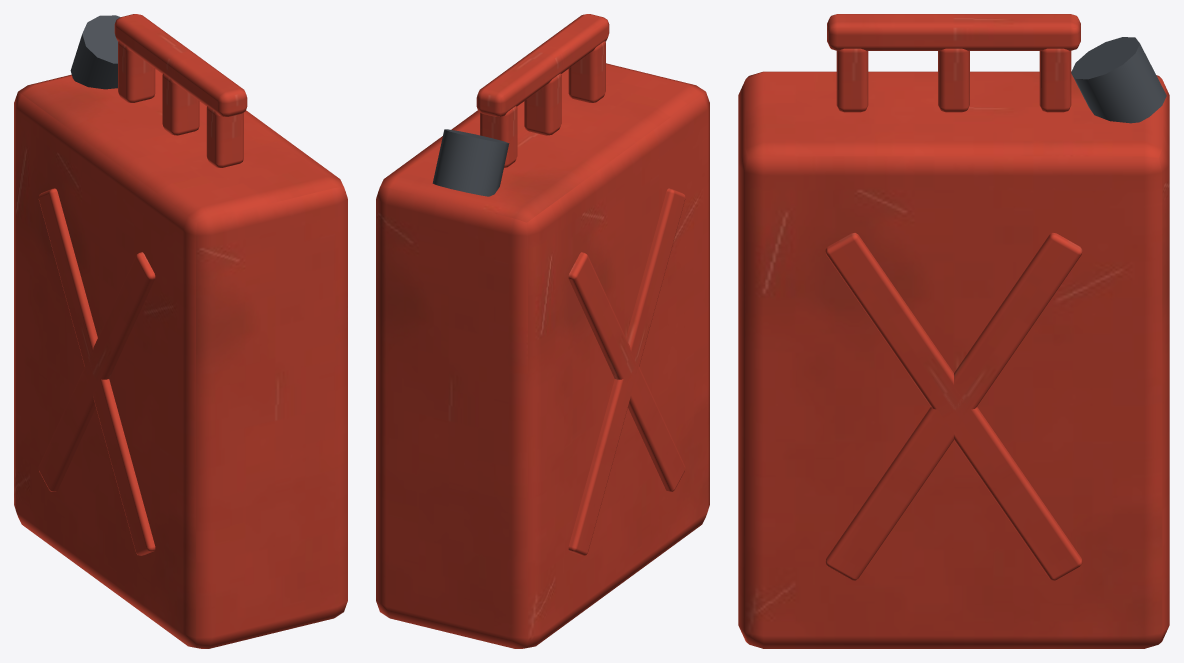
The model's file is Jerrycan.glb.
3 renders of one model, left to right at view 1: azimuth 30°, elevation 25°; view 2: azimuth 150°, elevation 25°; view 3: azimuth 270°, elevation 25°, orthographic. The views are drawn at different scales.
Visible parts, largest first — view 1: Jerrycan_Body; view 2: Jerrycan_Body; view 3: Jerrycan_Body.
Boxes of the visible parts, x1,y1,x2,y2 form: Jerrycan_Body: [14, 14, 347, 648]; Jerrycan_Body: [376, 14, 709, 648]; Jerrycan_Body: [738, 14, 1169, 648].
Bounding box in the file's own units: 0.184 × 0.5175 × 0.34.
Materials: 2 (1 with a texture image).
